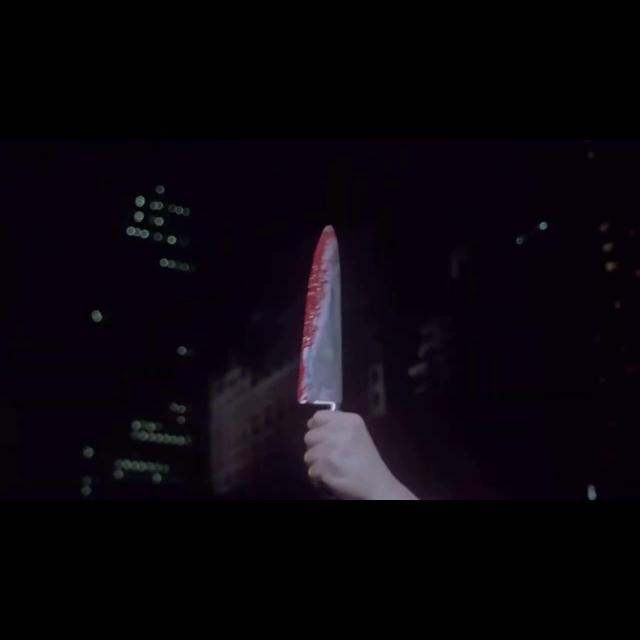blood: (298, 225, 337, 403)
